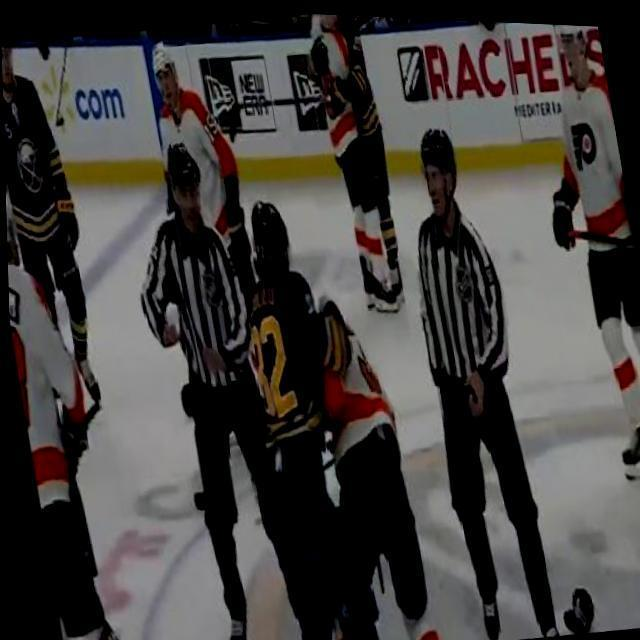fight: (216, 182, 428, 640)
